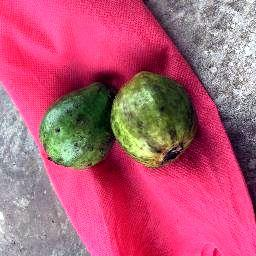guava: (109, 70, 199, 170), (39, 79, 120, 168)
